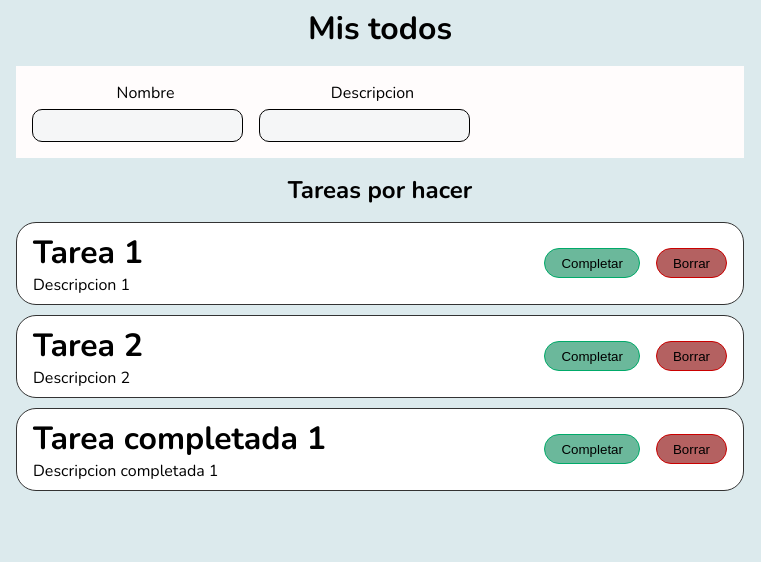
Test: it updates a todo
What coordinates should you click on to do the following:
click the button with test id "complete-button" in the row of "Tarea 1"
I would click on:
 (592, 263)
Its box is left=544, top=248, right=640, bottom=278.
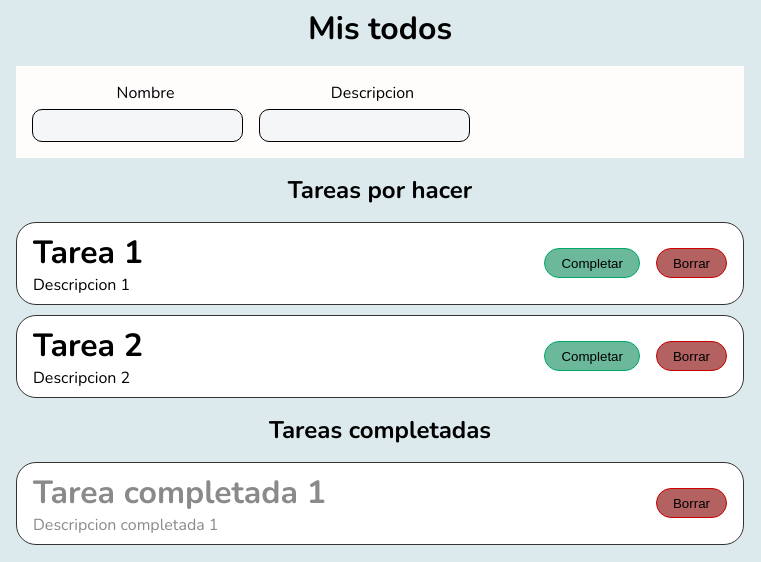
Result: the number of buttons with test id "complete-button" is 2 at left=544, top=248, right=640, bottom=278; left=544, top=341, right=640, bottom=371
